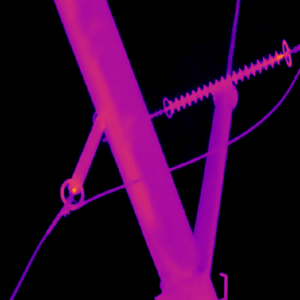insulator: (165, 38, 291, 116), (65, 113, 106, 198)
